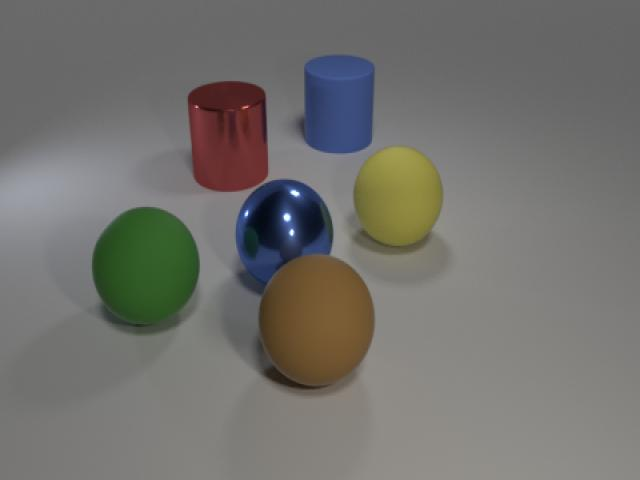cylinder: (182, 74, 271, 194), (298, 48, 376, 156)
round ball: (252, 247, 381, 392), (86, 199, 211, 334), (233, 172, 338, 286), (347, 143, 450, 253)
